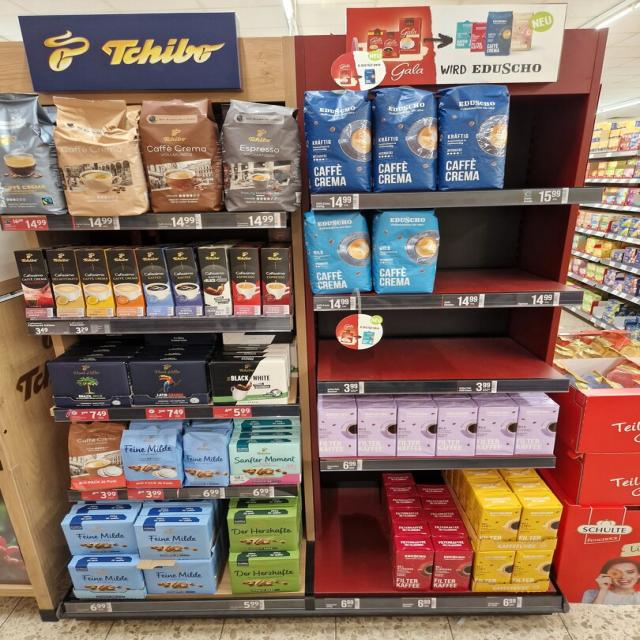BM Gemahlen: (45, 362, 132, 408)
BW Gemahlen: (208, 361, 290, 406)
CC Mild: (50, 96, 146, 216)
CC Vollmundig: (67, 422, 124, 490)
CC Vollmundig 36 Pads: (140, 98, 222, 213)
Espresso Aromatisch: (223, 97, 303, 211)
FM 36 Pads: (120, 430, 182, 490)
FM Bohne: (182, 429, 230, 487)
FM Gemahlen: (132, 524, 212, 560), (66, 564, 146, 600), (138, 560, 216, 596), (59, 522, 138, 556)
Herzhatfe Mundig: (224, 516, 300, 552), (228, 559, 302, 595)
LG Gemahlen: (131, 362, 209, 406)
SM Gemahlen: (229, 443, 302, 485)
Simo CC Colombia: (14, 250, 56, 317)
Simo CCMild bigpack: (76, 249, 116, 316)
Simo CCVollmundig bigpack: (107, 249, 146, 315)
Simo Decaff: (46, 250, 86, 316)
Simo Es Brazil: (229, 247, 261, 315)
Simo Es Caramel: (260, 247, 291, 314)
Simo Es Elegant: (199, 247, 233, 315)
Simo Es Kraft: (165, 247, 204, 315)
Simo Es Vanilla: (136, 247, 175, 315)
